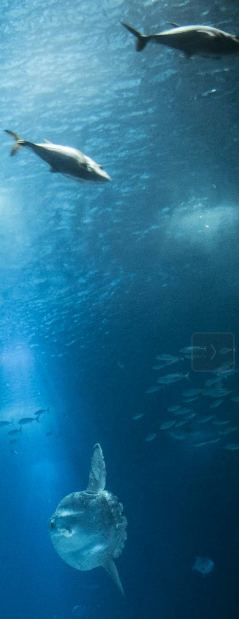fishLarge: (5, 128, 113, 187), (118, 19, 237, 62)
turtle: (48, 443, 129, 602)
